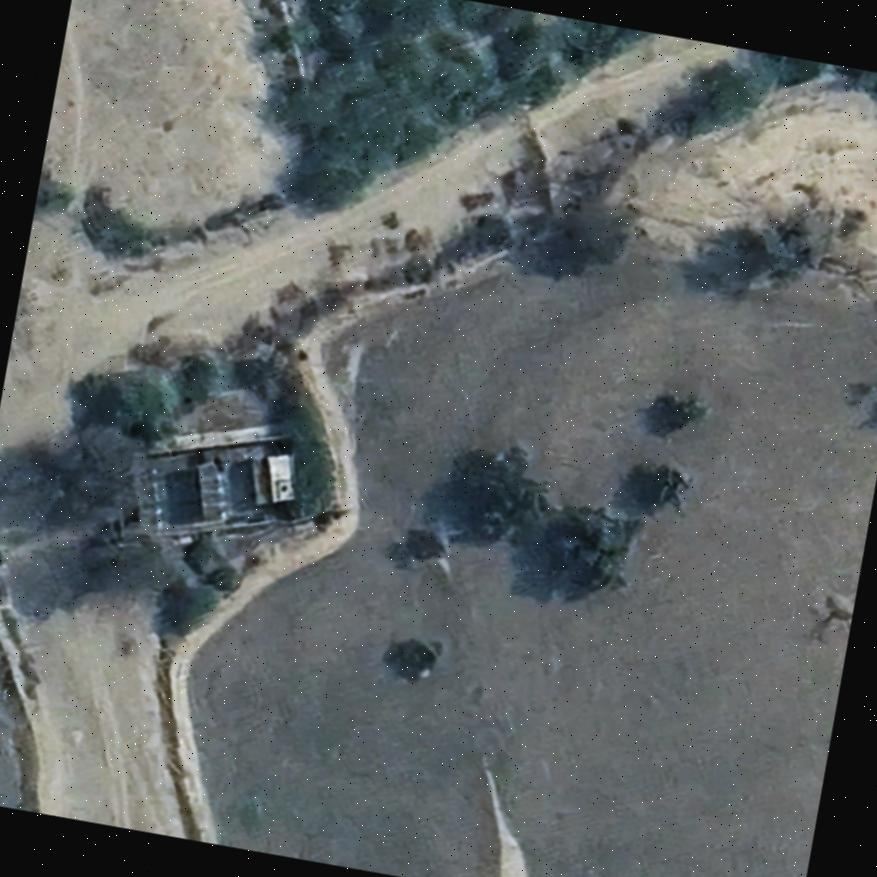Solarpanel: (194, 458, 227, 528)
